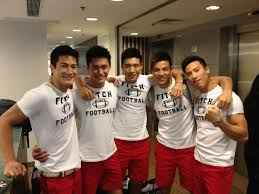asian_male: (118, 46, 145, 83)
